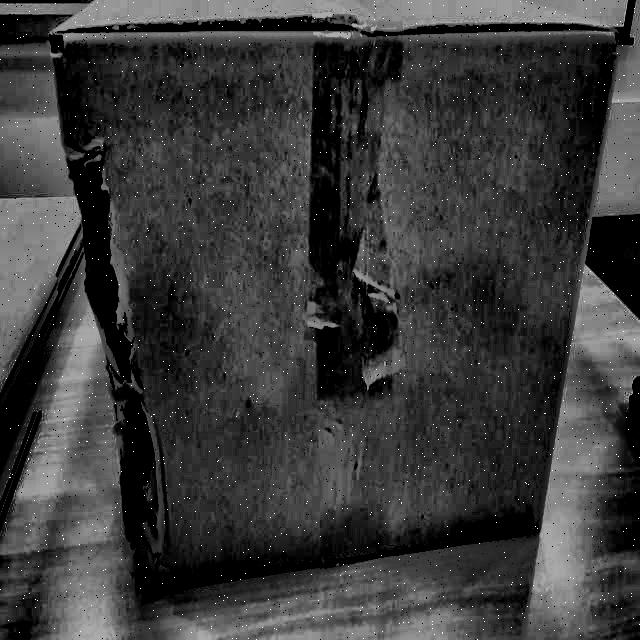box: (36, 0, 635, 603)
hole: (73, 160, 163, 546)
